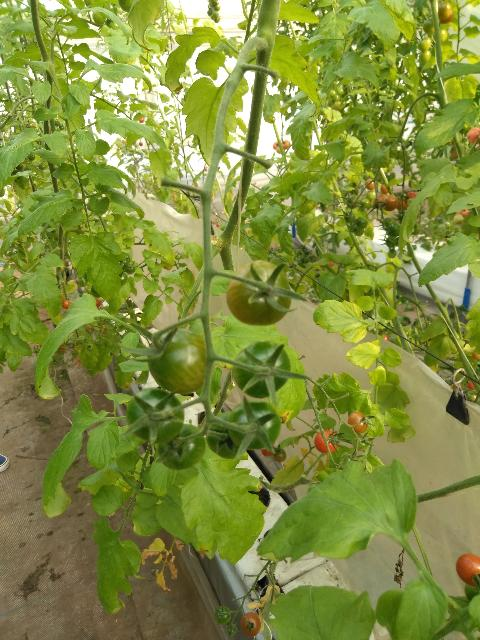l_fully_ripened: (314, 429, 339, 453), (261, 445, 274, 456)
l_green: (148, 329, 214, 396), (233, 340, 290, 398), (126, 388, 184, 444), (227, 400, 281, 450), (157, 423, 206, 471), (206, 412, 246, 459), (214, 606, 231, 625), (352, 434, 369, 451), (340, 452, 358, 467), (226, 624, 237, 636)
l_half_ripened: (226, 260, 292, 326), (456, 553, 479, 587), (241, 611, 261, 636), (347, 411, 369, 433), (273, 448, 286, 462)
